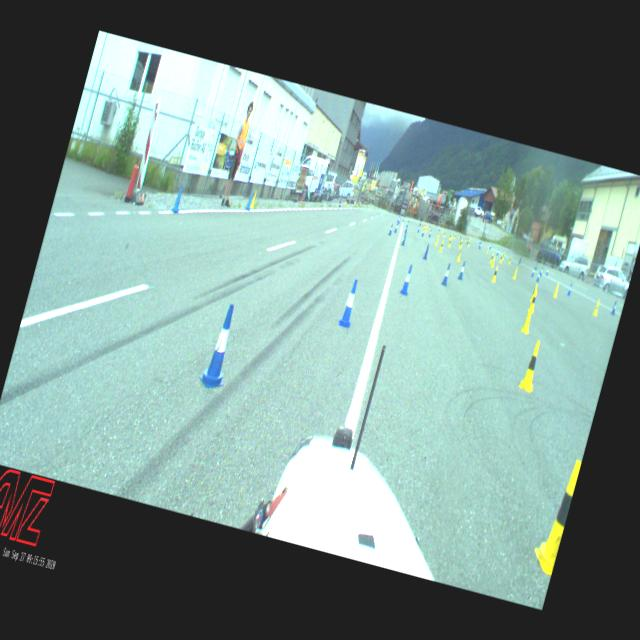blue_cone: (197, 300, 244, 392), (338, 278, 362, 327), (170, 180, 186, 213), (400, 264, 414, 296), (439, 262, 452, 286), (244, 188, 254, 211), (457, 260, 467, 280), (422, 243, 430, 259), (400, 232, 407, 246), (610, 301, 617, 314), (566, 282, 572, 294), (530, 265, 536, 276), (536, 270, 541, 282), (388, 224, 393, 235), (394, 222, 398, 232), (428, 228, 432, 238), (539, 266, 543, 276), (405, 218, 409, 228), (403, 224, 408, 232), (545, 266, 549, 274), (421, 228, 425, 236), (496, 247, 499, 255), (488, 242, 492, 248), (417, 225, 420, 232), (479, 242, 481, 248)
yellow_cone: (529, 455, 581, 573), (518, 340, 545, 392), (520, 306, 535, 334), (528, 290, 538, 312), (248, 189, 258, 208), (592, 298, 601, 316), (530, 284, 537, 302), (492, 265, 498, 281), (552, 284, 560, 296), (512, 266, 518, 279), (456, 250, 462, 262), (439, 240, 444, 251), (489, 253, 494, 263), (508, 254, 512, 264), (491, 256, 495, 266), (434, 234, 438, 244), (448, 238, 452, 247), (499, 253, 503, 262), (458, 239, 462, 248), (442, 230, 446, 237), (424, 226, 428, 233), (467, 240, 470, 247), (502, 252, 504, 260), (486, 248, 488, 254)
